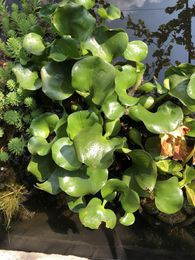water_hyacinth: (12, 0, 195, 229)
